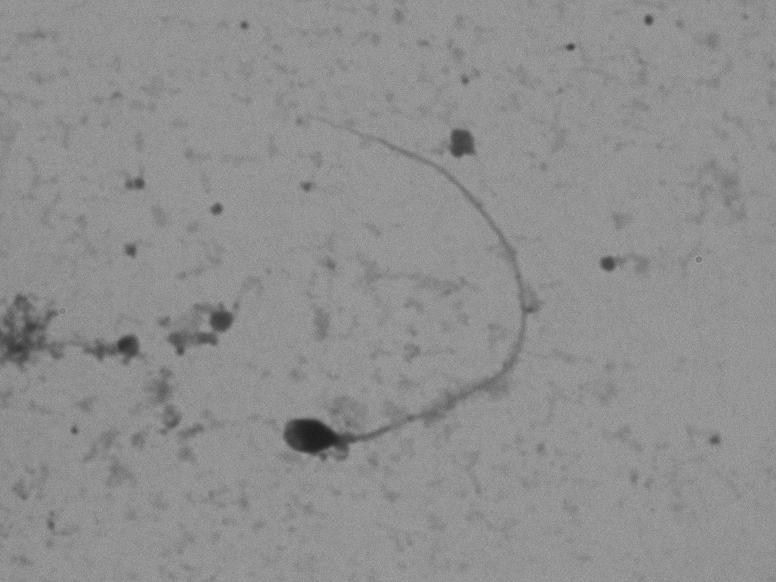Abnormal: (247, 89, 554, 490)
